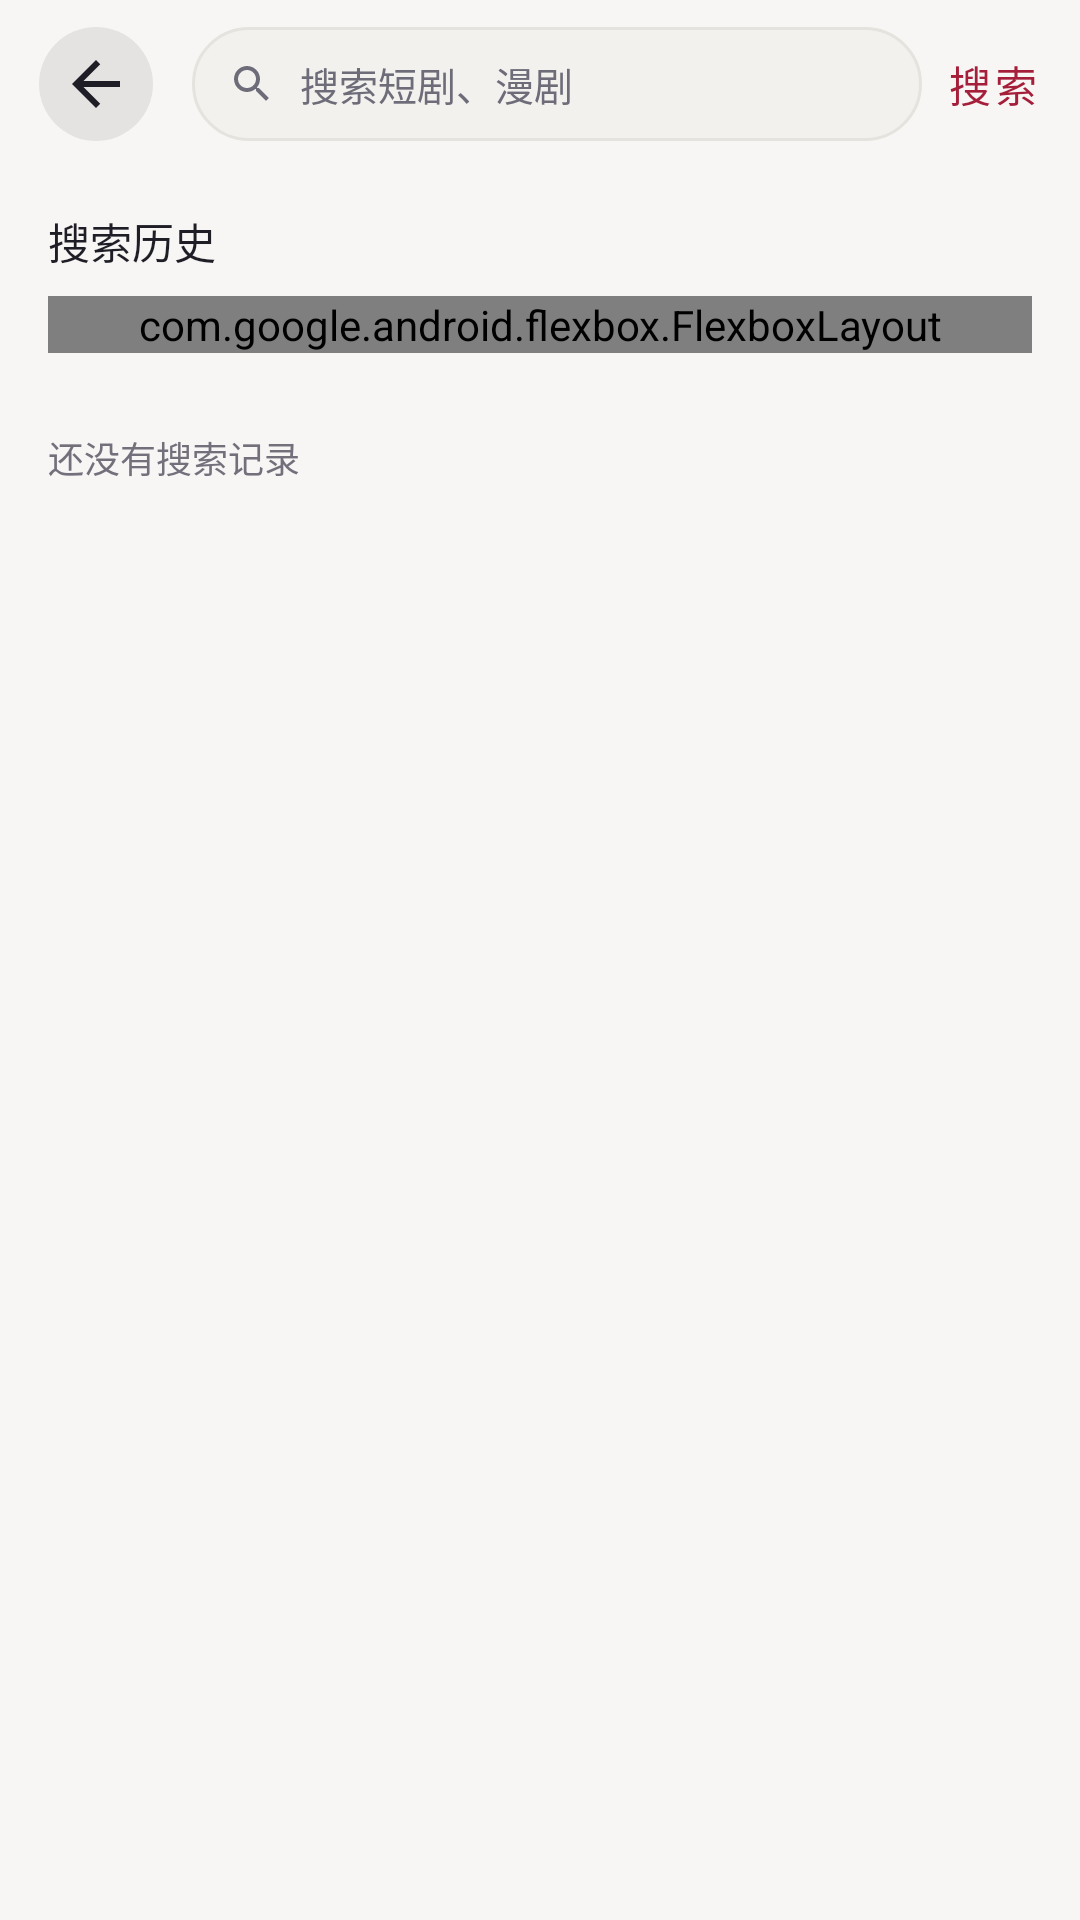

Where icons sit on this 1080x1920 app screen, as (x1, y1, x2, y2):
search: (234, 66, 269, 101)
返回: (39, 27, 153, 141)
